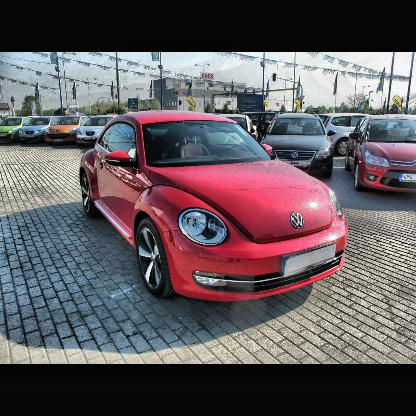Volkswagen Beetle Hatchback 2012: (81, 113, 350, 305)
